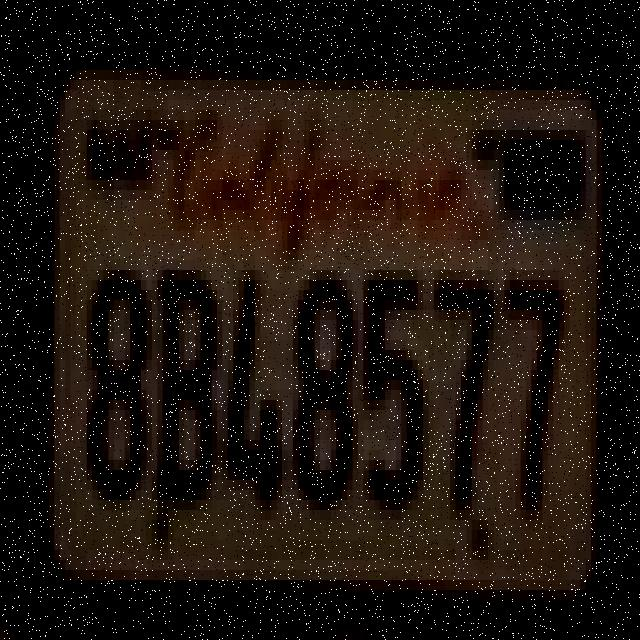licenseplate: (46, 60, 614, 608)
